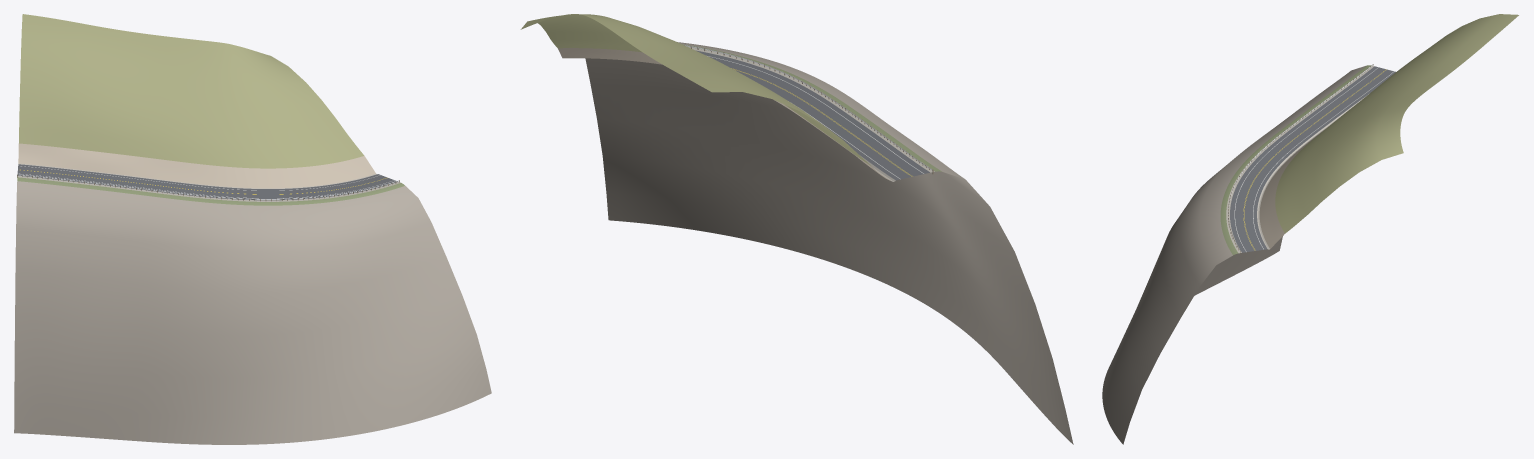
The picture shows the model from 3 angles, left to right: view 1: azimuth 30°, elevation 25°; view 2: azimuth 150°, elevation 25°; view 3: azimuth 270°, elevation 25°; orthographic projection. The views are drawn at different scales.
Parts seen in each view (by area): view 1: Cliff, Hillside, RoadCut, Asphalt, Verge, Gravel, Guardrail; view 2: Cliff, Hillside, Asphalt, RoadCut, Gravel, Verge; view 3: Cliff, Hillside, Asphalt, Gravel, RoadCut, Verge, EdgeLines.
Part boxes in pixels (box(x1,y1,x2,y2)): Cliff: box(14, 181, 491, 444); Hillside: box(19, 14, 364, 168); RoadCut: box(18, 143, 375, 188); Asphalt: box(17, 164, 397, 200); Verge: box(17, 177, 404, 205); Gravel: box(17, 163, 400, 201); Guardrail: box(17, 174, 399, 199); Cliff: box(585, 42, 1073, 444); Hillside: box(520, 14, 870, 165); Asphalt: box(696, 50, 929, 180); RoadCut: box(558, 48, 890, 180); Gravel: box(688, 47, 934, 181); Verge: box(683, 44, 942, 171); Cliff: box(1102, 66, 1365, 444); Hillside: box(1275, 14, 1518, 233); Asphalt: box(1230, 66, 1395, 252); Gravel: box(1226, 66, 1374, 253); RoadCut: box(1259, 130, 1323, 248); Verge: box(1220, 65, 1371, 255); EdgeLines: box(1234, 67, 1394, 251).
Size of the model in its own units: 176 by 126 by 160.
